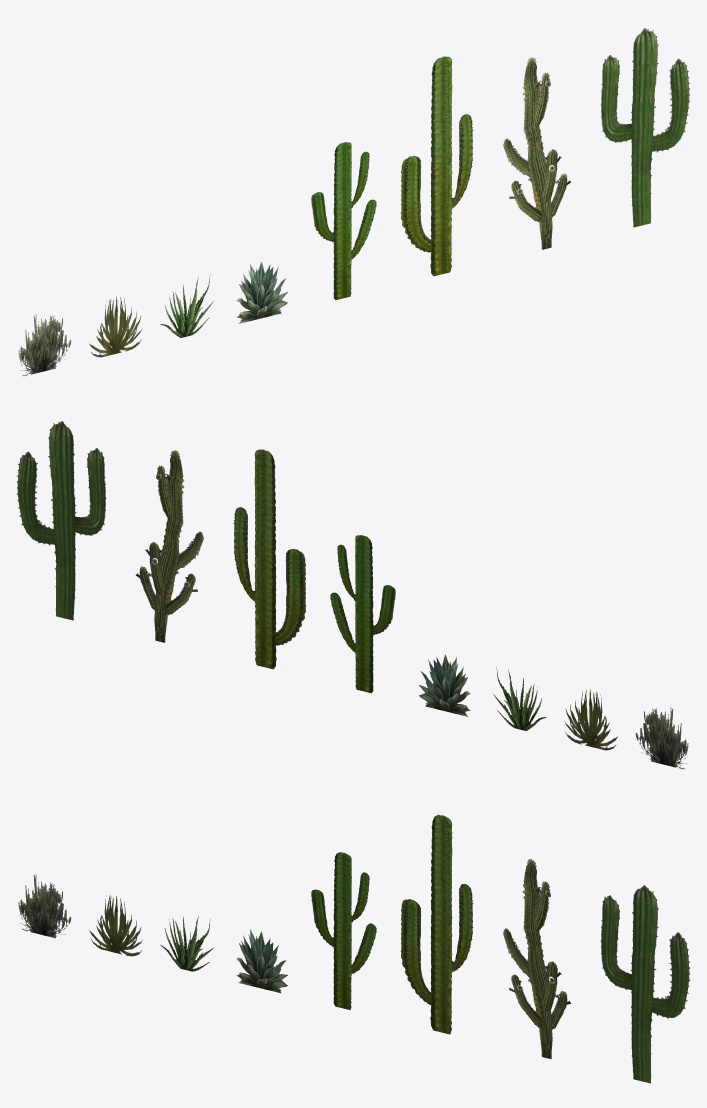
File: Outer_Plants.fbx
3 renders of one model, top to bottom at view 1: azimuth 30°, elevation 25°; view 2: azimuth 150°, elevation 25°; view 3: azimuth 330°, elevation 25°, orthographic.
Visible parts, largest first — view 1: Plant_8, Plant_6, Plant_7, Plant_5, Plant_1, Plant_4, Plant_2, Plant_3; view 2: Plant_8, Plant_6, Plant_7, Plant_5, Plant_1, Plant_4, Plant_2, Plant_3; view 3: Plant_8, Plant_6, Plant_7, Plant_5, Plant_1, Plant_4, Plant_2, Plant_3.
Boxes of the visible parts, x1,y1,x2,y2 form: Plant_8: (600, 28, 690, 227); Plant_6: (400, 56, 473, 276); Plant_7: (503, 57, 571, 249); Plant_5: (311, 142, 376, 300); Plant_1: (18, 314, 71, 376); Plant_4: (236, 261, 287, 323); Plant_2: (89, 296, 142, 357); Plant_3: (160, 274, 213, 337); Plant_8: (16, 421, 106, 620); Plant_6: (233, 449, 306, 669); Plant_7: (135, 450, 203, 642); Plant_5: (330, 535, 395, 693); Plant_1: (635, 707, 688, 769); Plant_4: (419, 654, 470, 716); Plant_2: (564, 689, 617, 750); Plant_3: (493, 667, 546, 730); Plant_8: (600, 885, 690, 1083); Plant_6: (400, 814, 473, 1034); Plant_7: (503, 859, 571, 1059); Plant_5: (311, 852, 376, 1010); Plant_1: (18, 874, 71, 938); Plant_4: (236, 929, 287, 993); Plant_2: (89, 895, 142, 956); Plant_3: (160, 916, 213, 971).
Size of the model in its own units: 10.01 by 3.12 by 4.1e-07.
